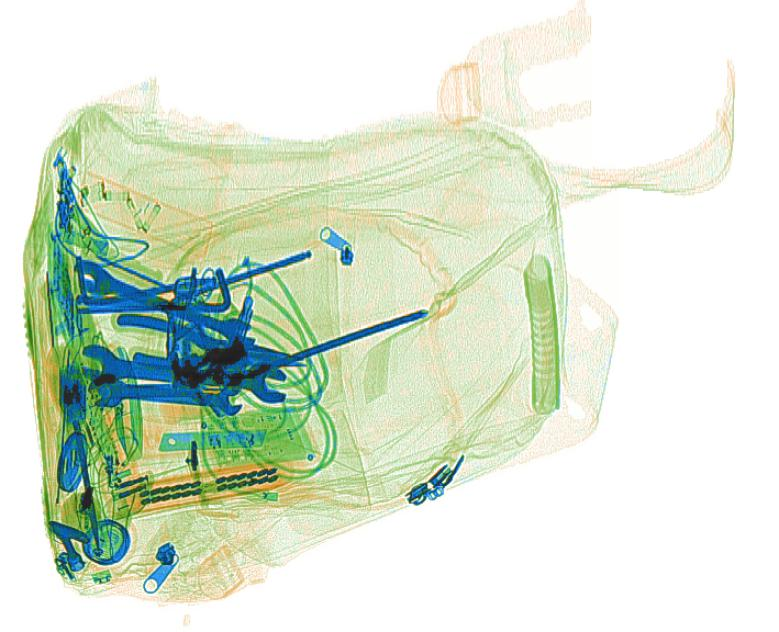knife: (155, 427, 266, 453)
